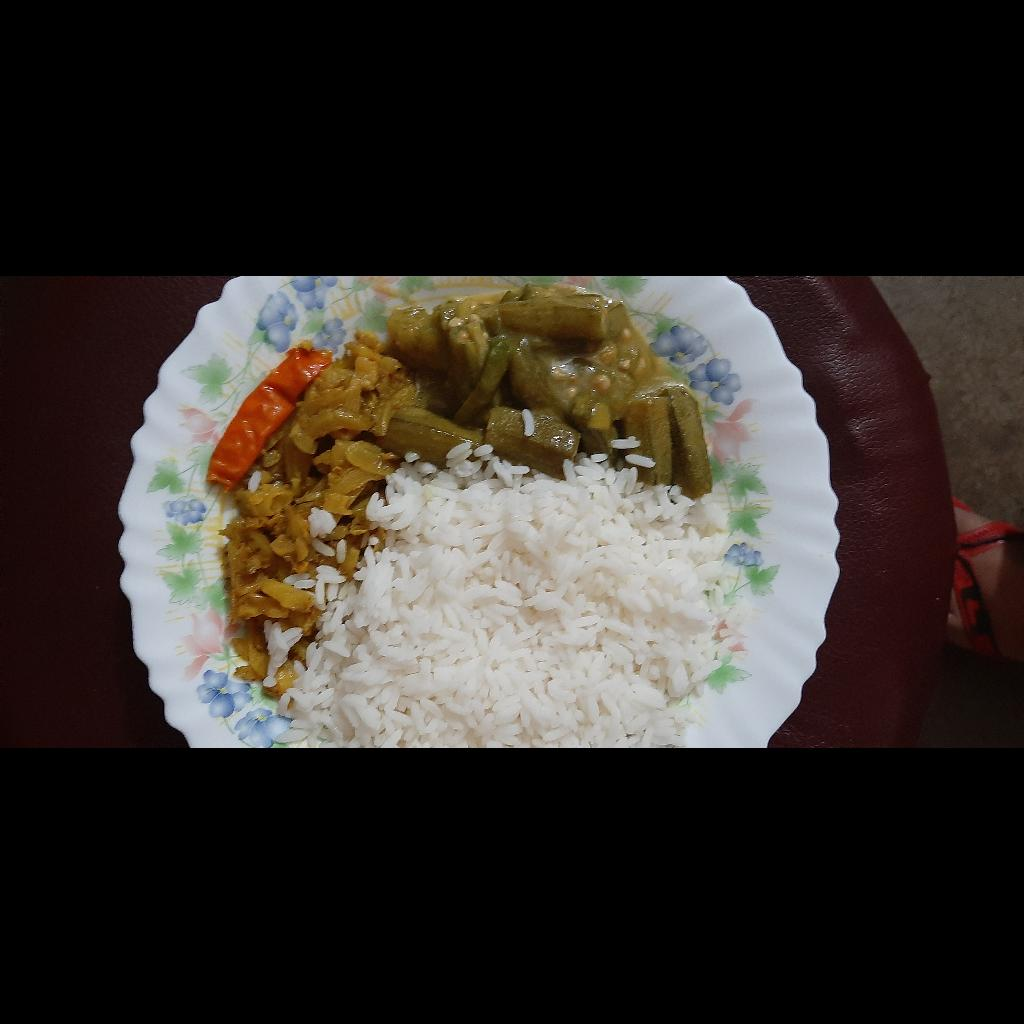cabbage: (59, 491, 409, 690)
chichinga-vaji: (253, 653, 466, 988)
rice: (0, 544, 303, 1008), (187, 584, 238, 623), (70, 540, 121, 577), (150, 565, 181, 620), (313, 794, 338, 811)
